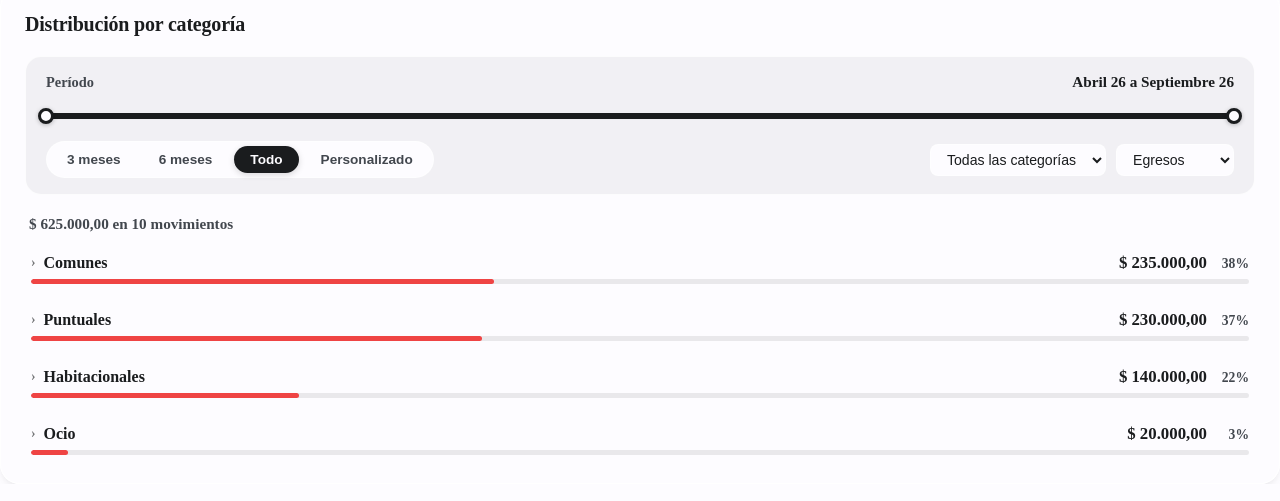
Test case: New Análisis Tab Features › 3. Category Distribution Card (matching reference image) › supports switching to Ahorros and Inversiones movement types
# Switch to Ahorros
Select "Ahorros" in the dropdown named "Tipo de movimiento" at (1175, 160), box [1116,144,1234,176]
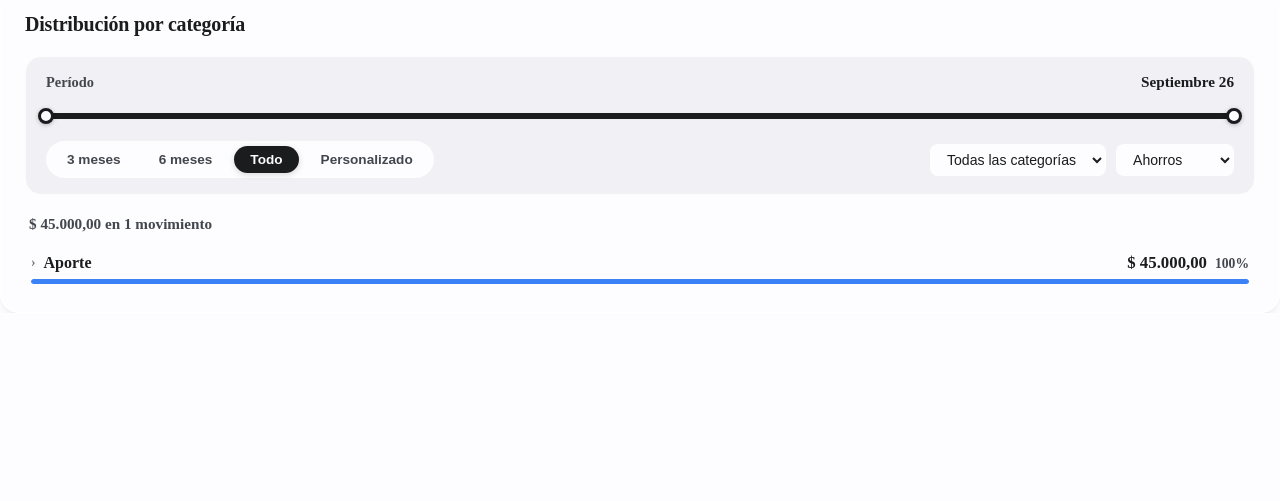
Expected: the element with test id "card-distribucion-categoria" shows "45.000", [29,215,101,232]
# Switch to Inversiones
Select "Inversiones" in the dropdown named "Tipo de movimiento" at (1175, 160), box [1116,144,1234,176]
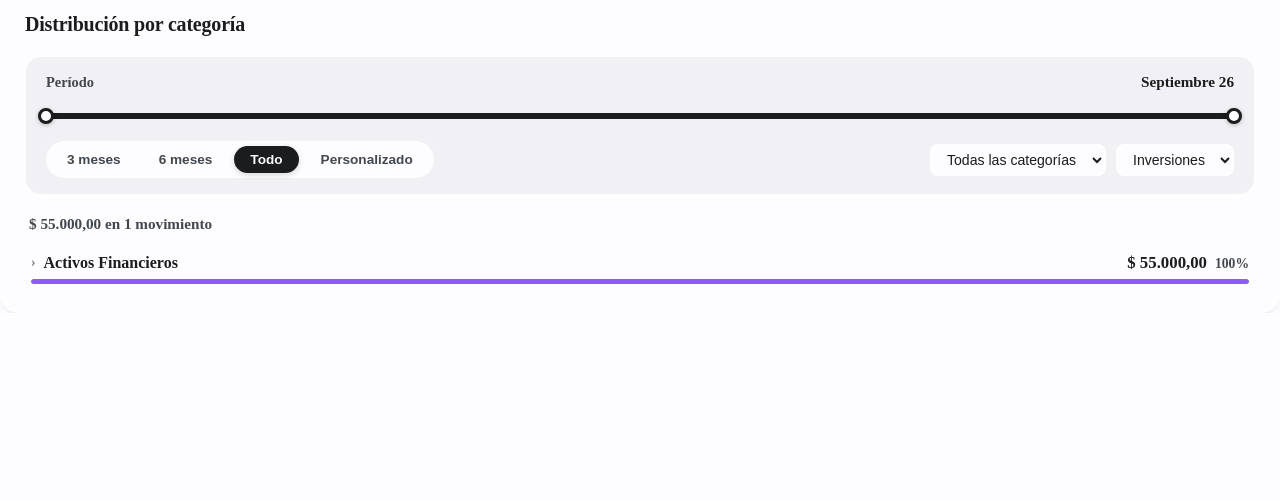
Expected: the element with test id "card-distribucion-categoria" shows "55.000", [29,215,101,232]
